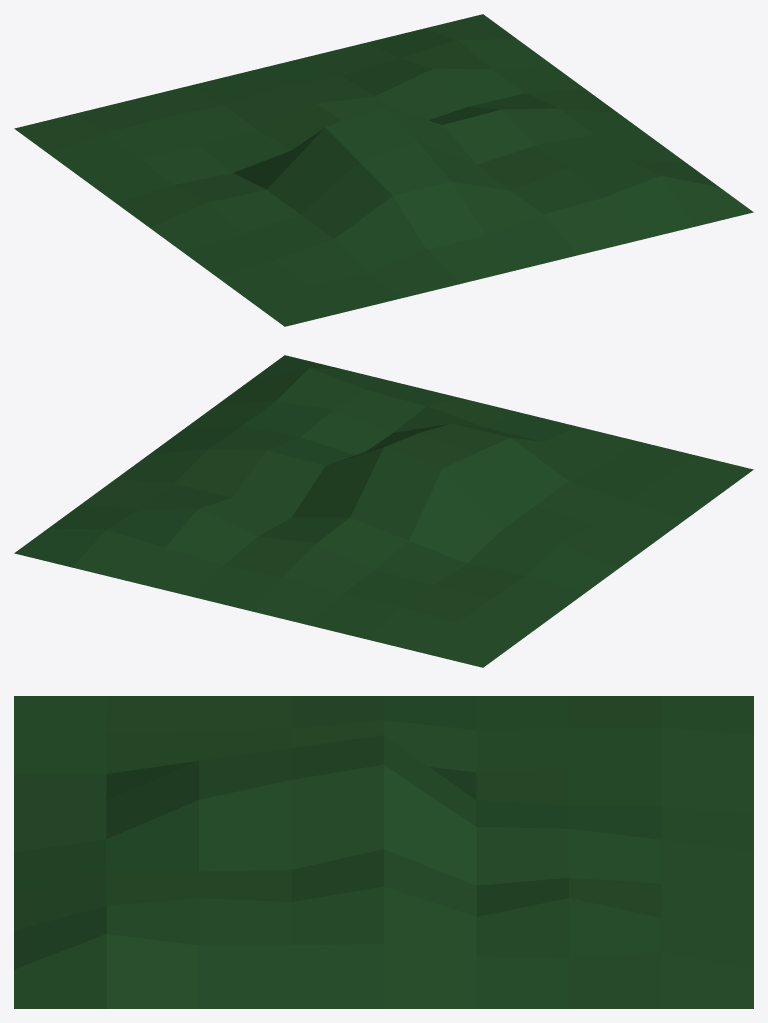
Rendered from Terrain_4_Dark_Green.fbx.
3 renders of one model, top to bottom at view 1: azimuth 30°, elevation 25°; view 2: azimuth 150°, elevation 25°; view 3: azimuth 270°, elevation 25°, orthographic. The views are drawn at different scales.
Visible parts, largest first — view 1: Terrain_4_Dark_Green; view 2: Terrain_4_Dark_Green; view 3: Terrain_4_Dark_Green.
Boxes of the visible parts, x1,y1,x2,y2 form: Terrain_4_Dark_Green: [14, 14, 753, 326]; Terrain_4_Dark_Green: [14, 355, 753, 667]; Terrain_4_Dark_Green: [14, 696, 753, 1008].
Size of the model in its own units: 3000 by 393 by 3000.
